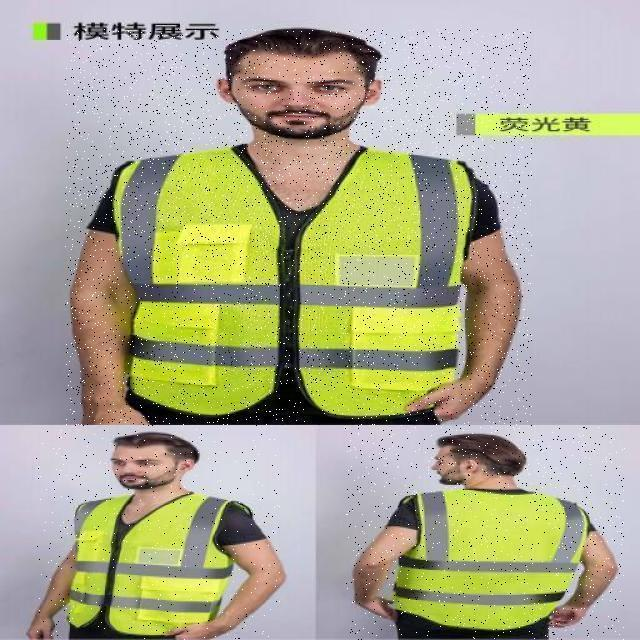person: (65, 29, 532, 426), (345, 427, 625, 640), (36, 428, 280, 640)
vest: (112, 146, 480, 409), (373, 491, 583, 629), (68, 498, 234, 638)
